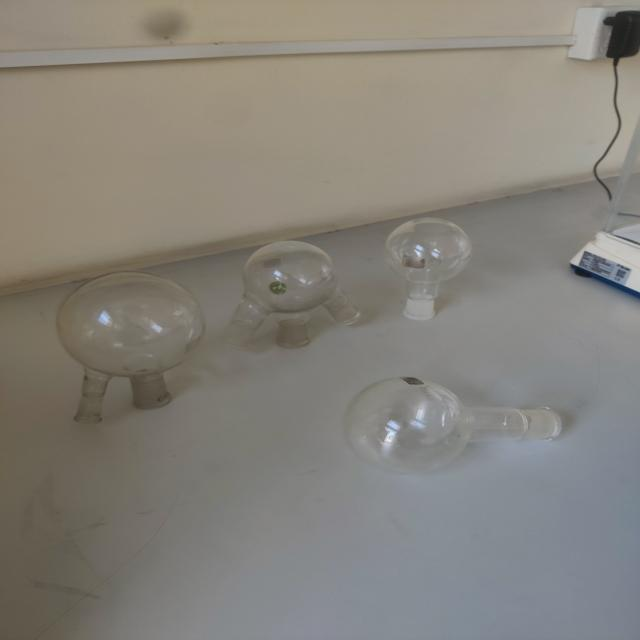Round_Bottom_Flask_Borosilicate_Glass_1_Neck: (316, 349, 586, 489), (369, 197, 486, 356)
Round_Bottom_Flask_Borosilicate_Glass_2_Neck: (36, 252, 218, 438)
Round_Bottom_Flask_Borosilicate_Glass_3_Neck: (208, 221, 370, 375)
